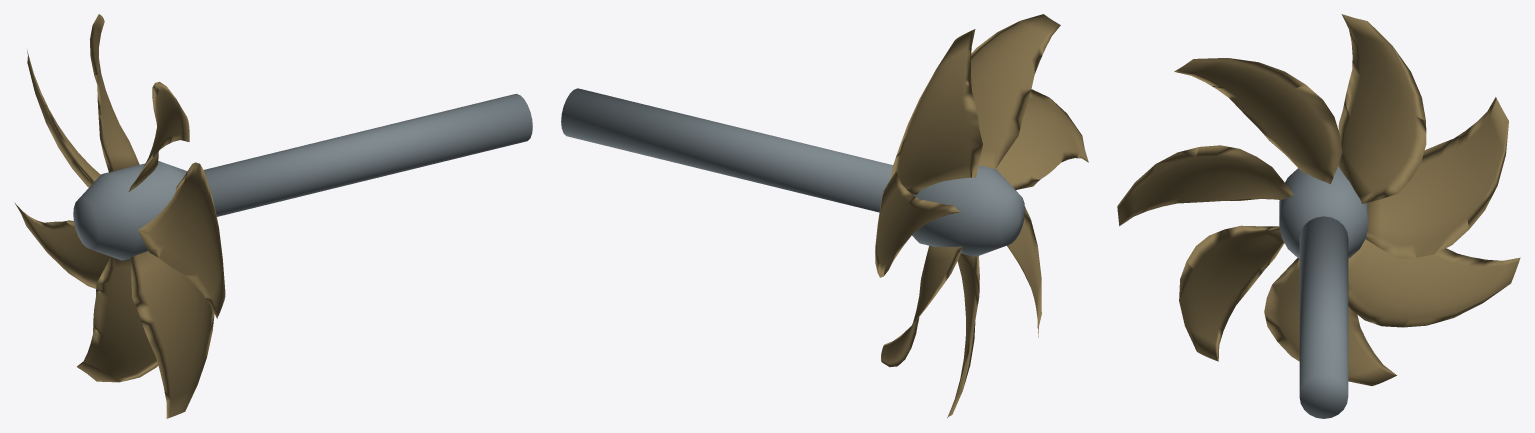
File: CN_PROP_Type093_LOD1.fbx
The picture shows the model from 3 angles, left to right: view 1: azimuth 30°, elevation 25°; view 2: azimuth 150°, elevation 25°; view 3: azimuth 270°, elevation 25°; orthographic projection. The views are drawn at different scales.
Visible parts, largest first — view 1: CN_PROP_Type093_LOD1_Shaft.001, CN_PROP_Type093_LOD1_Blade_04.001, CN_PROP_Type093_LOD1_Hub.001, CN_PROP_Type093_LOD1_Blade_03.001, CN_PROP_Type093_LOD1_Blade_05.001, CN_PROP_Type093_LOD1_Blade_06.001, CN_PROP_Type093_LOD1_Blade_01.001, CN_PROP_Type093_LOD1_Blade_02.001, CN_PROP_Type093_LOD1_Blade_00.001; view 2: CN_PROP_Type093_LOD1_Shaft.001, CN_PROP_Type093_LOD1_Blade_01.001, CN_PROP_Type093_LOD1_Blade_02.001, CN_PROP_Type093_LOD1_Hub.001, CN_PROP_Type093_LOD1_Blade_03.001, CN_PROP_Type093_LOD1_Blade_00.001, CN_PROP_Type093_LOD1_Blade_06.001, CN_PROP_Type093_LOD1_Blade_05.001, CN_PROP_Type093_LOD1_Blade_04.001; view 3: CN_PROP_Type093_LOD1_Blade_00.001, CN_PROP_Type093_LOD1_Blade_01.001, CN_PROP_Type093_LOD1_Blade_06.001, CN_PROP_Type093_LOD1_Shaft.001, CN_PROP_Type093_LOD1_Blade_02.001, CN_PROP_Type093_LOD1_Blade_04.001, CN_PROP_Type093_LOD1_Blade_03.001, CN_PROP_Type093_LOD1_Hub.001, CN_PROP_Type093_LOD1_Blade_05.001.
Part boxes in pixels (x1,y1,x2,y2): CN_PROP_Type093_LOD1_Shaft.001: (204, 93, 532, 216); CN_PROP_Type093_LOD1_Blade_04.001: (130, 251, 214, 418); CN_PROP_Type093_LOD1_Hub.001: (73, 161, 186, 260); CN_PROP_Type093_LOD1_Blade_03.001: (138, 162, 225, 318); CN_PROP_Type093_LOD1_Blade_05.001: (77, 257, 158, 382); CN_PROP_Type093_LOD1_Blade_06.001: (14, 202, 110, 288); CN_PROP_Type093_LOD1_Blade_01.001: (90, 14, 139, 172); CN_PROP_Type093_LOD1_Blade_02.001: (128, 81, 189, 191); CN_PROP_Type093_LOD1_Blade_00.001: (27, 50, 100, 187); CN_PROP_Type093_LOD1_Shaft.001: (561, 88, 892, 212); CN_PROP_Type093_LOD1_Blade_01.001: (890, 29, 982, 194); CN_PROP_Type093_LOD1_Blade_02.001: (971, 14, 1060, 168); CN_PROP_Type093_LOD1_Hub.001: (912, 165, 1024, 256); CN_PROP_Type093_LOD1_Blade_03.001: (996, 89, 1088, 189); CN_PROP_Type093_LOD1_Blade_00.001: (875, 171, 960, 277); CN_PROP_Type093_LOD1_Blade_06.001: (881, 245, 962, 367); CN_PROP_Type093_LOD1_Blade_05.001: (947, 253, 979, 418); CN_PROP_Type093_LOD1_Blade_04.001: (1007, 207, 1041, 337); CN_PROP_Type093_LOD1_Blade_00.001: (1365, 97, 1508, 258); CN_PROP_Type093_LOD1_Blade_01.001: (1338, 14, 1426, 203); CN_PROP_Type093_LOD1_Blade_06.001: (1348, 239, 1520, 327); CN_PROP_Type093_LOD1_Shaft.001: (1299, 216, 1348, 418); CN_PROP_Type093_LOD1_Blade_02.001: (1174, 58, 1342, 184); CN_PROP_Type093_LOD1_Blade_04.001: (1179, 225, 1284, 361); CN_PROP_Type093_LOD1_Blade_03.001: (1117, 145, 1293, 226); CN_PROP_Type093_LOD1_Hub.001: (1279, 165, 1368, 258); CN_PROP_Type093_LOD1_Blade_05.001: (1264, 258, 1396, 385).
Bounding box in the file's own units: 538 × 430 × 434.
